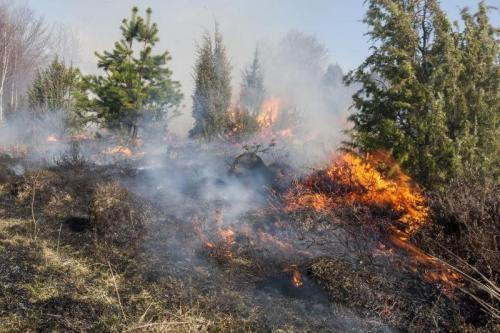fire: (278, 136, 456, 291), (188, 69, 298, 149), (18, 123, 151, 168)
